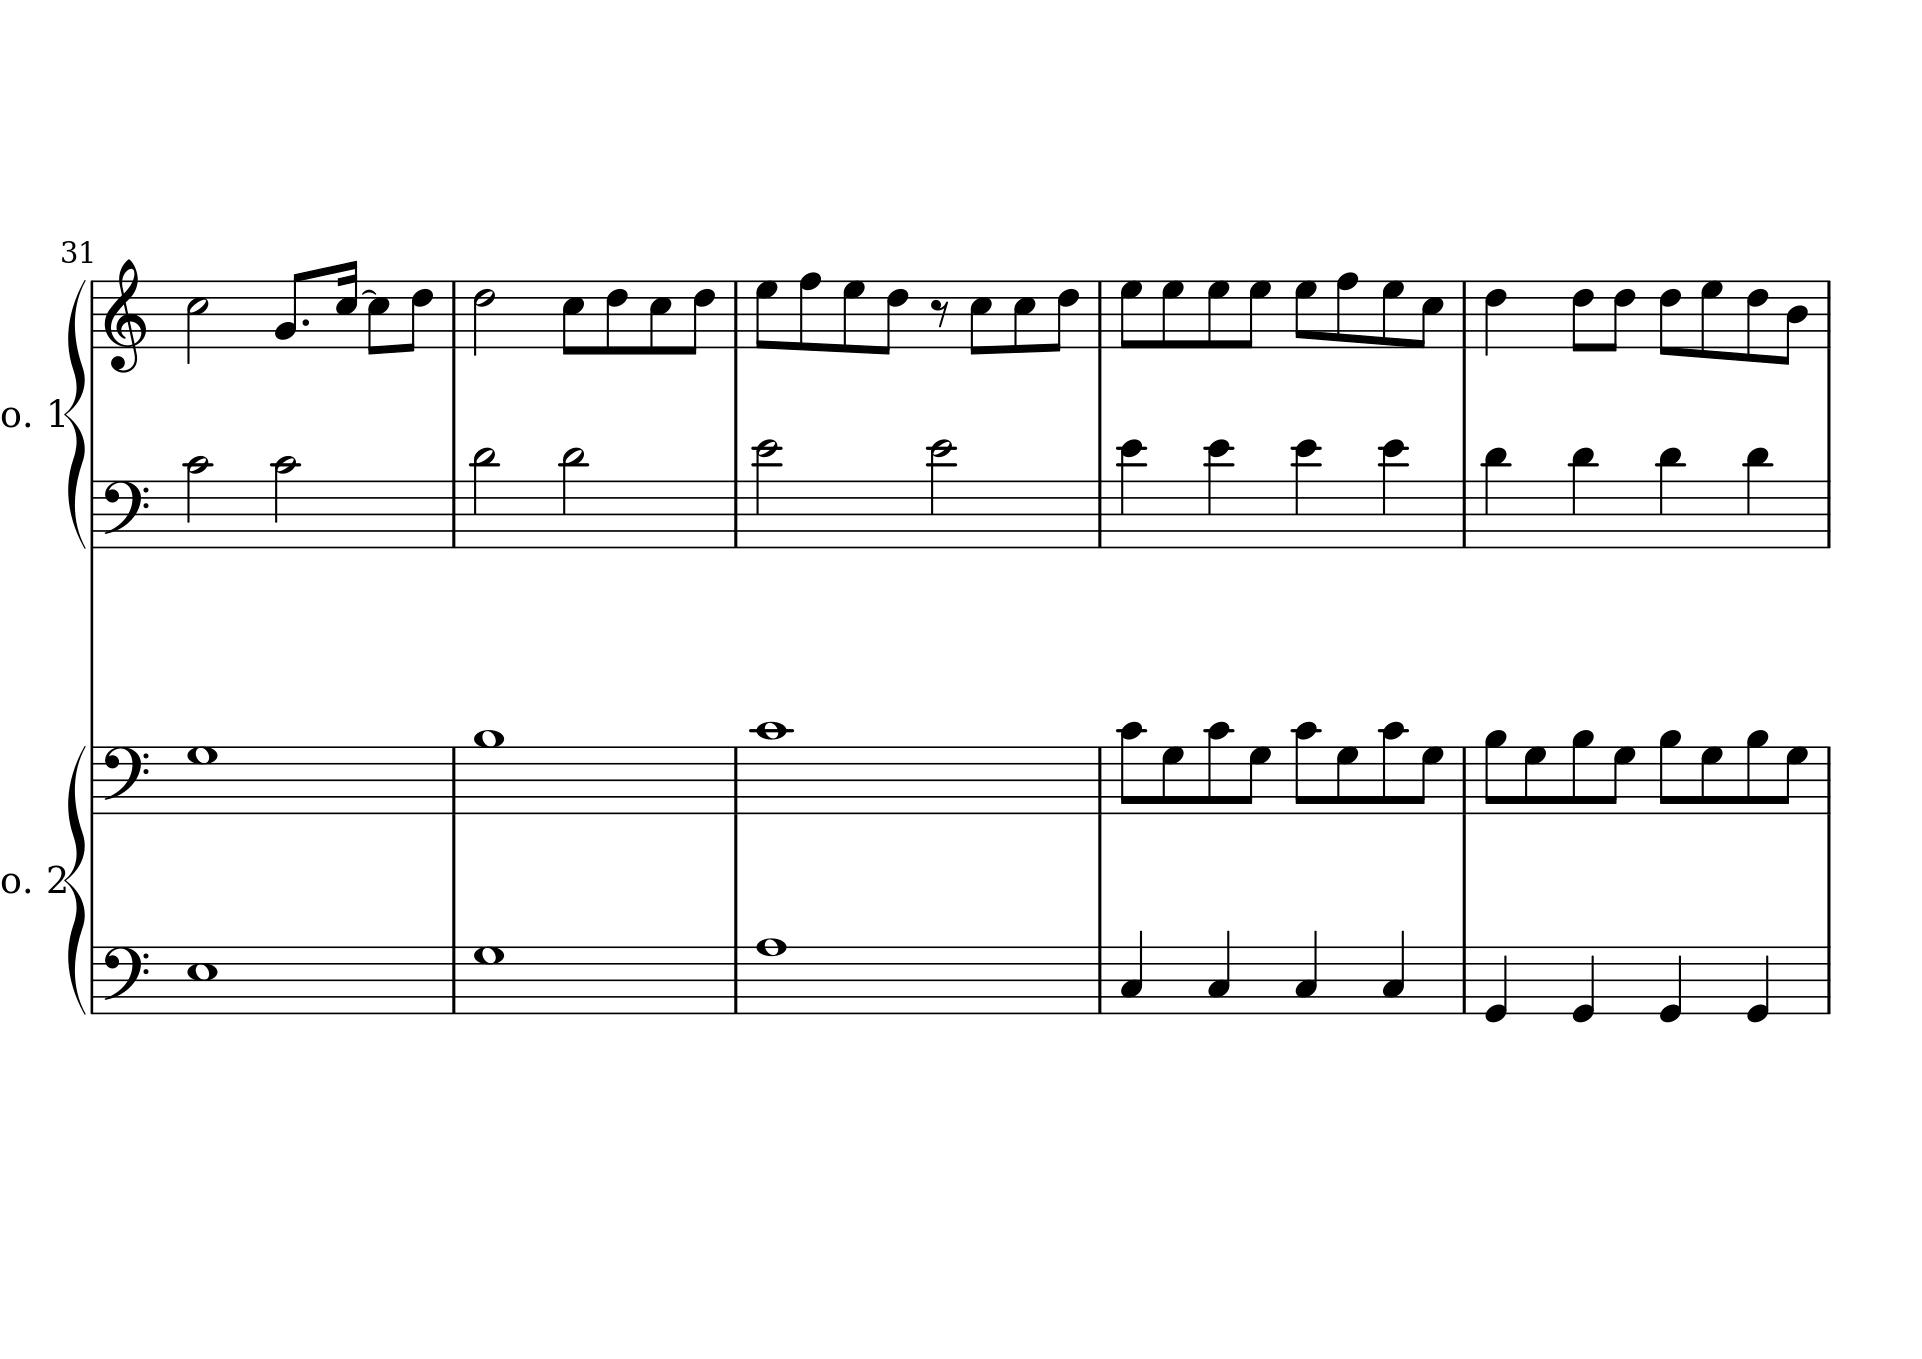1: (79, 238, 94, 266)
16_5: (334, 257, 357, 350)
1_10: (753, 721, 790, 816)
1_5: (185, 943, 219, 1016)
1_7: (472, 944, 504, 1015)
1_8: (754, 935, 788, 1016)
1_9: (471, 727, 506, 816)
2_10: (182, 454, 215, 552), (271, 453, 301, 552)
2_11: (559, 446, 588, 552), (471, 446, 499, 550)
2_12: (751, 435, 782, 552), (926, 435, 956, 552)
2_5: (184, 278, 210, 366)
2_6: (471, 278, 496, 356)
3: (60, 238, 76, 263)
4_0: (1482, 943, 1510, 1024), (1571, 943, 1598, 1024), (1657, 943, 1685, 1024), (1744, 943, 1772, 1024)
4_11: (1479, 446, 1512, 550), (1656, 446, 1687, 550), (1569, 446, 1598, 550), (1743, 446, 1772, 550)
4_12: (1115, 435, 1148, 550), (1290, 435, 1322, 552), (1378, 435, 1410, 552), (1203, 437, 1235, 552)
4_3: (1206, 928, 1232, 1015), (1381, 930, 1407, 1015), (1294, 928, 1319, 1015), (1121, 930, 1146, 1015)
4_6: (1482, 278, 1507, 357)
8_10: (1204, 719, 1232, 816), (1118, 721, 1146, 816), (1293, 721, 1321, 816), (1379, 721, 1407, 816)
8_2: (274, 271, 304, 349)
8_4: (1779, 278, 1809, 365)
8_5: (1415, 278, 1446, 350), (560, 277, 585, 357), (649, 277, 674, 354), (968, 278, 993, 356), (1012, 278, 1037, 354), (366, 278, 390, 357)
8_6: (685, 278, 718, 354), (878, 278, 910, 354), (403, 278, 435, 353), (1606, 277, 1638, 352), (1744, 277, 1771, 365), (1050, 278, 1081, 352), (604, 277, 629, 356), (1657, 277, 1682, 356), (1571, 278, 1596, 353)
8_7: (185, 744, 219, 816), (1604, 744, 1637, 815), (1778, 744, 1810, 815), (1240, 278, 1271, 349), (1415, 744, 1446, 815), (1241, 744, 1271, 815), (1698, 278, 1723, 359), (841, 278, 866, 354), (1522, 744, 1548, 816), (1204, 278, 1229, 350), (1160, 743, 1185, 815), (1698, 744, 1723, 816), (754, 278, 779, 349), (1160, 278, 1185, 349), (1293, 278, 1318, 349), (1379, 278, 1404, 349), (1335, 744, 1360, 815), (1119, 278, 1143, 349)
8_8: (797, 271, 822, 352), (1335, 271, 1360, 349)
8_9: (1744, 728, 1771, 816), (1482, 730, 1509, 815), (1571, 728, 1596, 816), (1657, 728, 1682, 816)
Brace: (65, 743, 90, 1013), (65, 274, 88, 549)
Fclef: (100, 477, 149, 552), (101, 744, 150, 815), (101, 943, 149, 1013)
Gclef: (101, 256, 147, 375)
Rests8: (929, 297, 950, 328)
Single_barline: (443, 746, 465, 813), (1090, 746, 1110, 813), (444, 946, 465, 1013), (726, 946, 747, 1013), (1454, 479, 1473, 547), (1454, 746, 1473, 813), (726, 746, 746, 813), (1454, 946, 1473, 1013), (1819, 479, 1837, 549), (446, 279, 463, 347), (1456, 279, 1473, 347), (728, 281, 746, 349), (446, 479, 463, 547), (1091, 946, 1109, 1013), (1821, 279, 1837, 349), (1093, 281, 1109, 349), (728, 479, 744, 547), (1091, 479, 1107, 547), (85, 746, 101, 813), (1821, 746, 1837, 813), (1821, 946, 1837, 1013), (87, 479, 101, 549), (85, 279, 100, 347), (87, 946, 100, 1013)
Slur: (360, 288, 378, 296)
dot: (299, 315, 310, 328)
